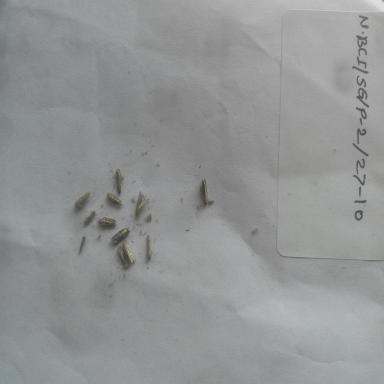pbw: (134, 190, 150, 218), (74, 188, 92, 210), (111, 227, 130, 244), (97, 214, 117, 230), (82, 210, 97, 231), (123, 239, 135, 264), (106, 192, 124, 208), (200, 178, 210, 206), (77, 234, 88, 256), (118, 246, 128, 270), (115, 168, 124, 194), (145, 232, 153, 261)
